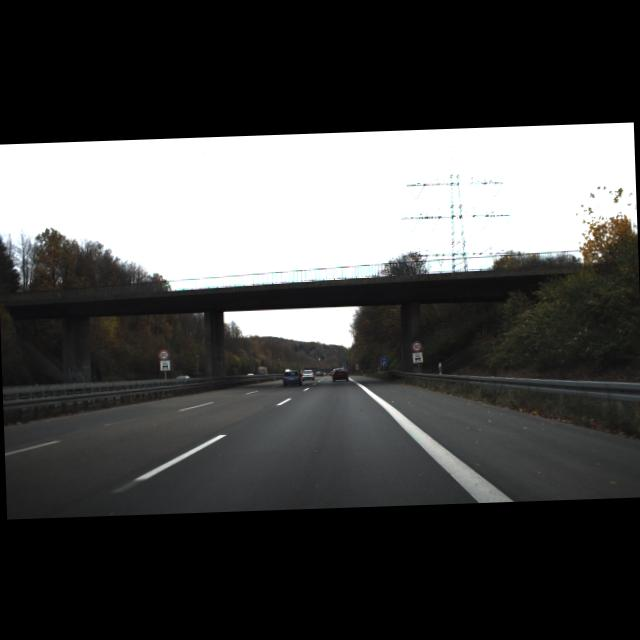prohibitory: (411, 340, 422, 350), (158, 348, 168, 359)
